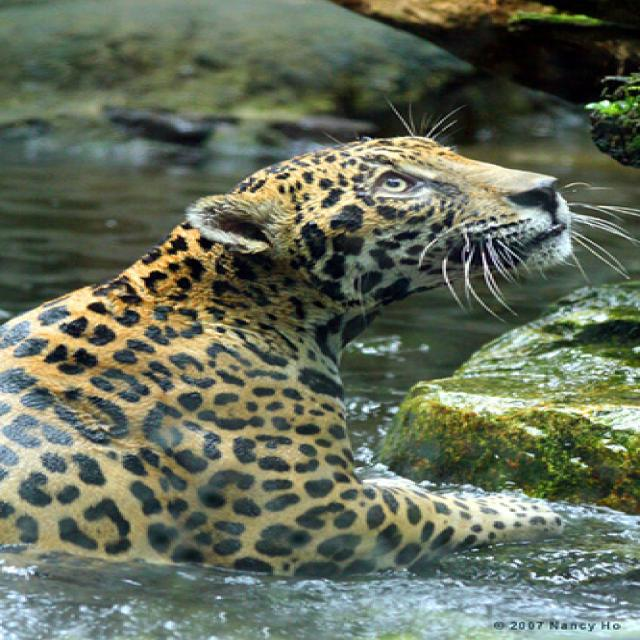Leopard: (0, 95, 634, 582)
